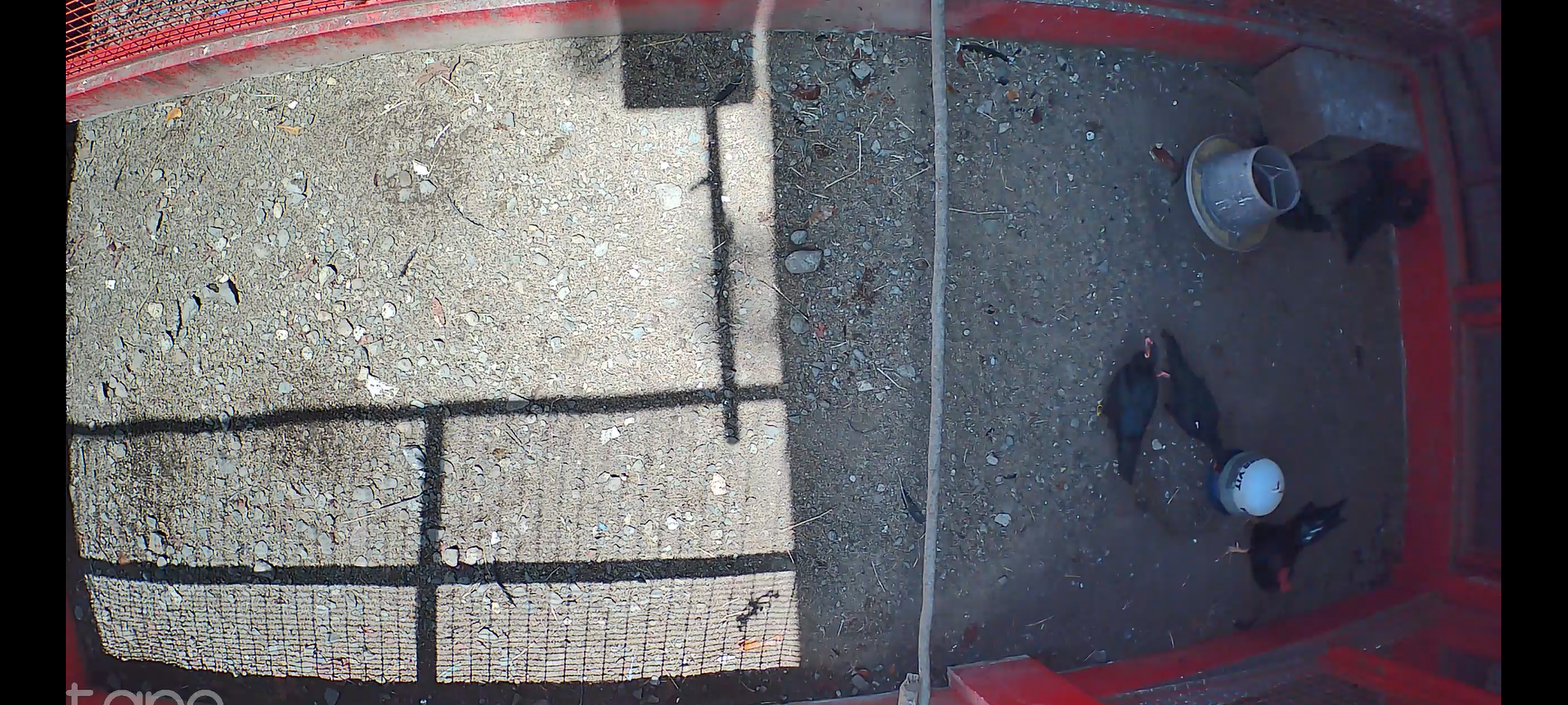Chicken: (1153, 328, 1228, 472), (1093, 332, 1161, 486)
Drinker: (1206, 447, 1284, 518)
Feeder: (1182, 131, 1302, 256)
Rooster: (1222, 496, 1346, 596)
